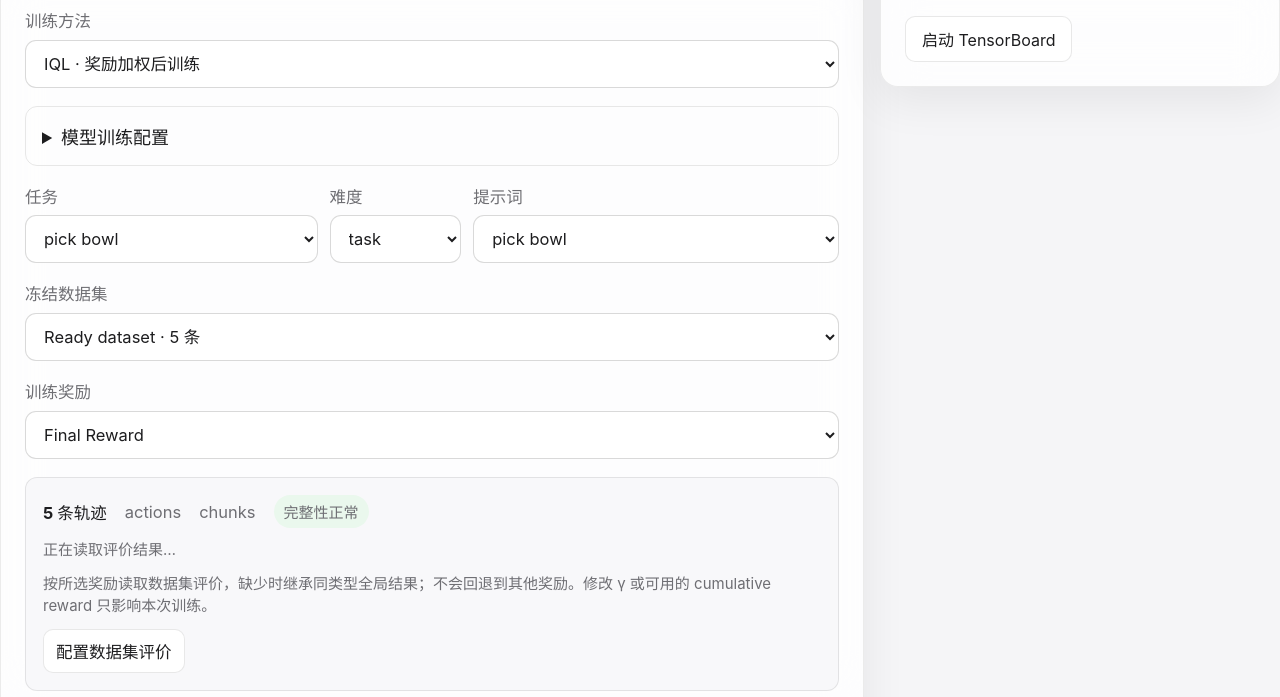
Test: dataset-pinned training reward › clears a previous defaults error when another dataset loads successfully
(page scrolled)
Select "Unready dataset · 3 条" in the dropdown labelled "冻结数据集" at (432, 338), box [25, 314, 839, 362]
(page scrolled)
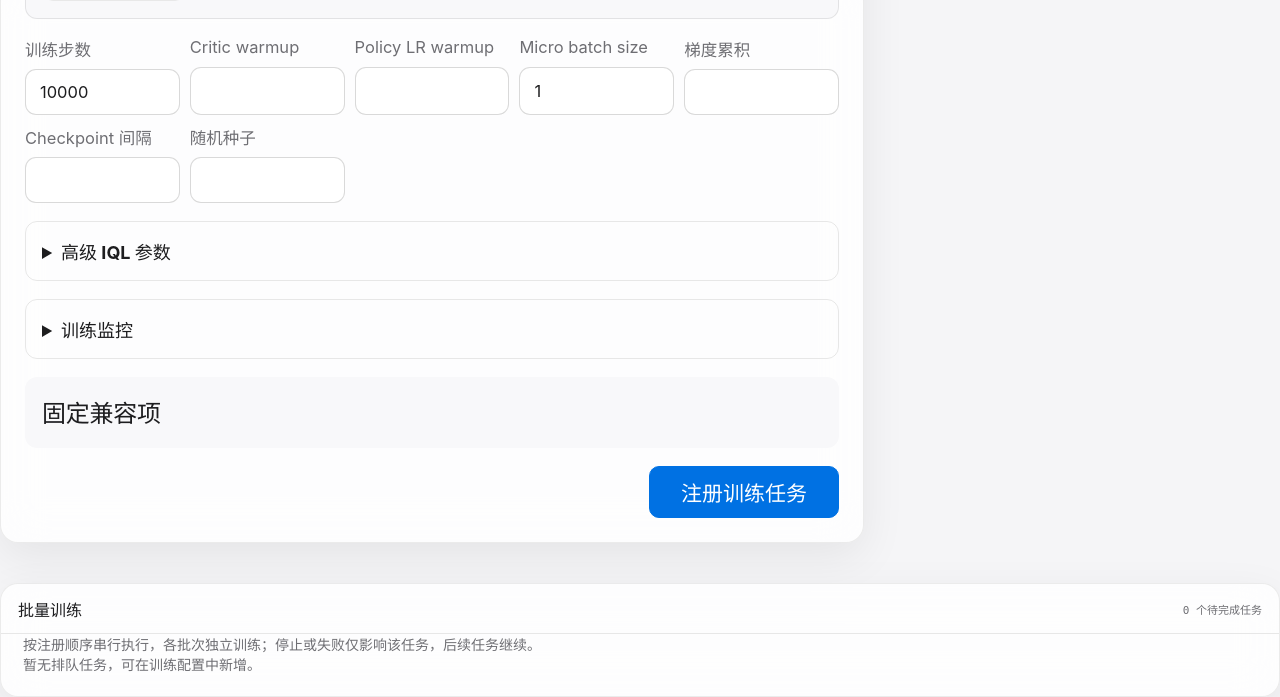
Expected: the button "注册训练任务" is enabled, [649, 466, 839, 518]
